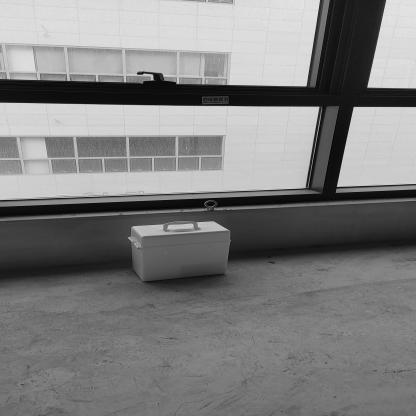DDL: (131, 220, 231, 282)
